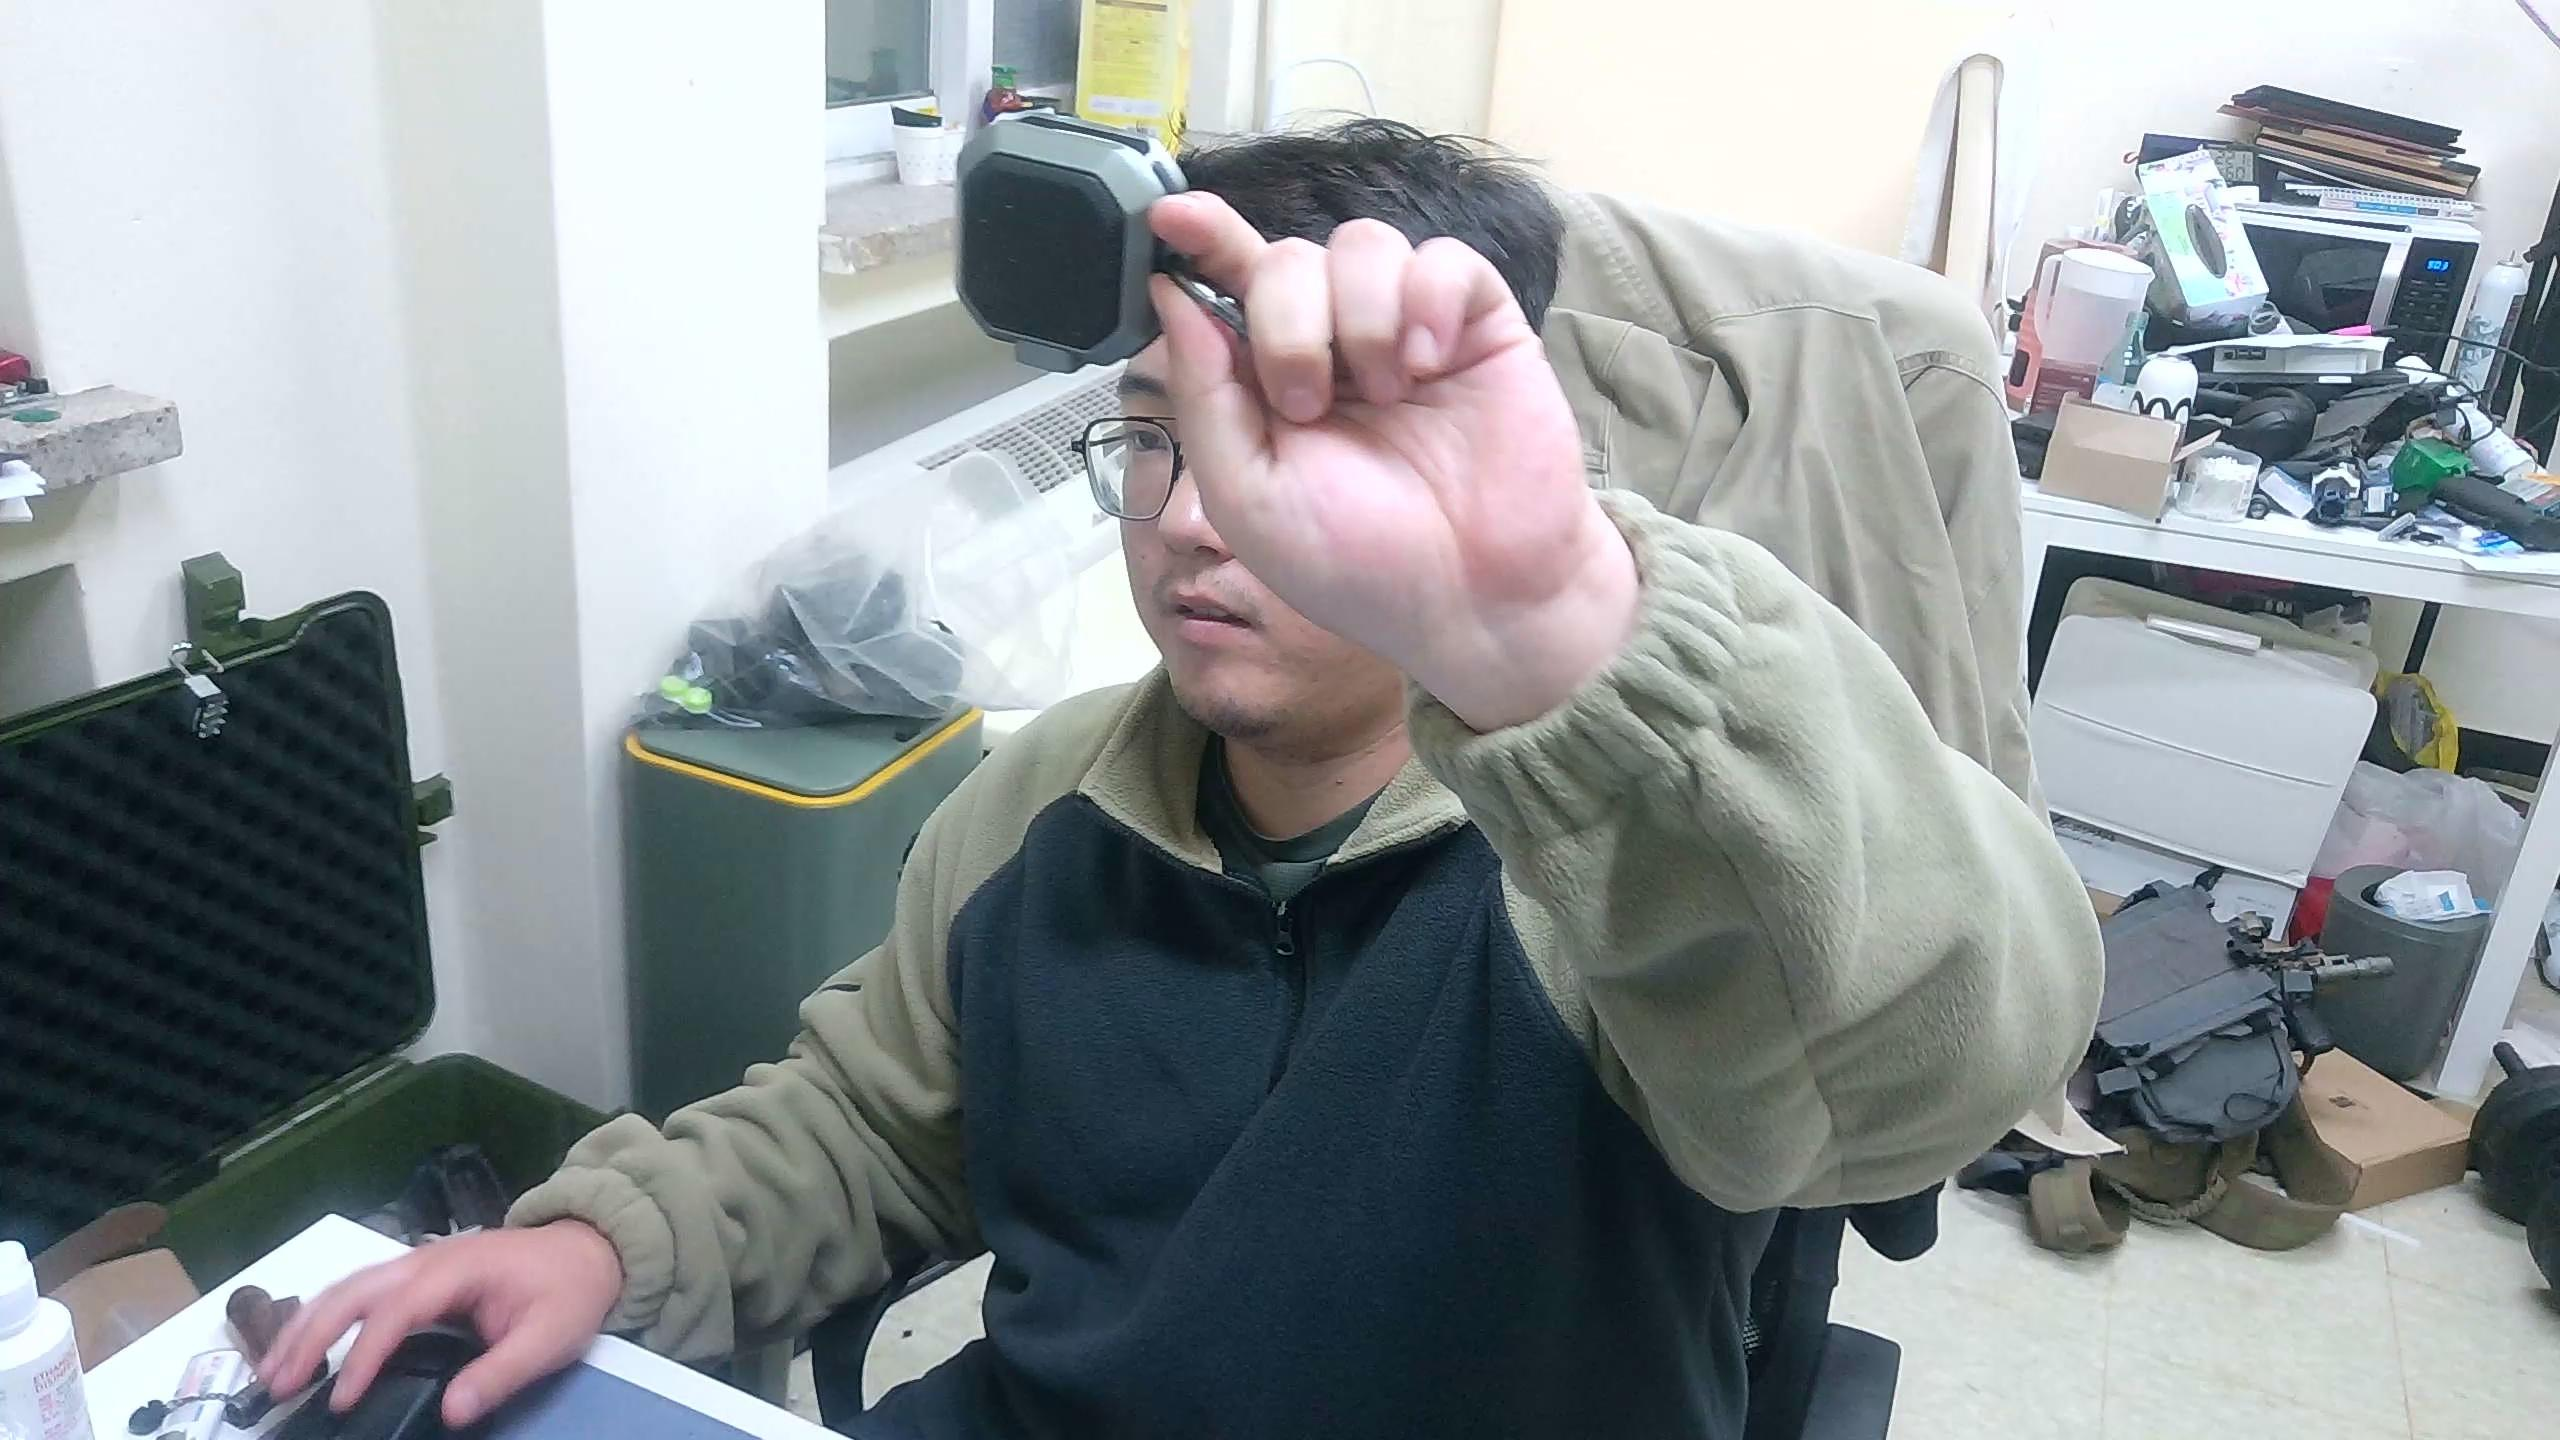blue_pliers: (953, 105, 1254, 376)
